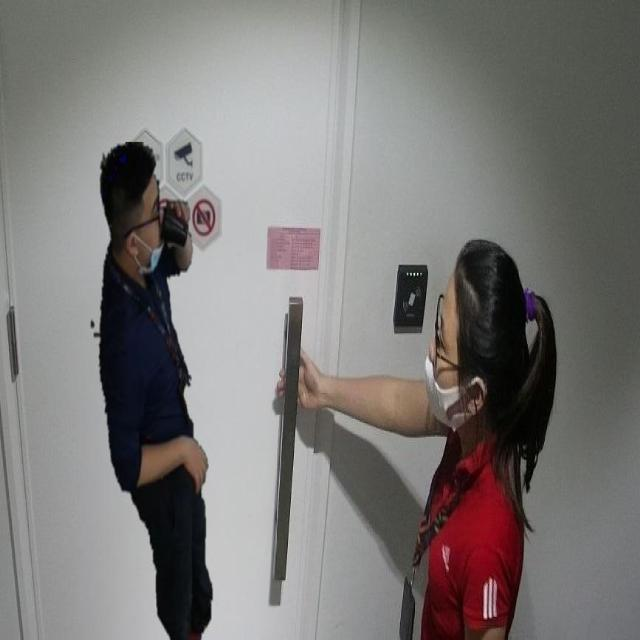hairnet: (426, 304, 468, 426), (138, 192, 164, 275)
